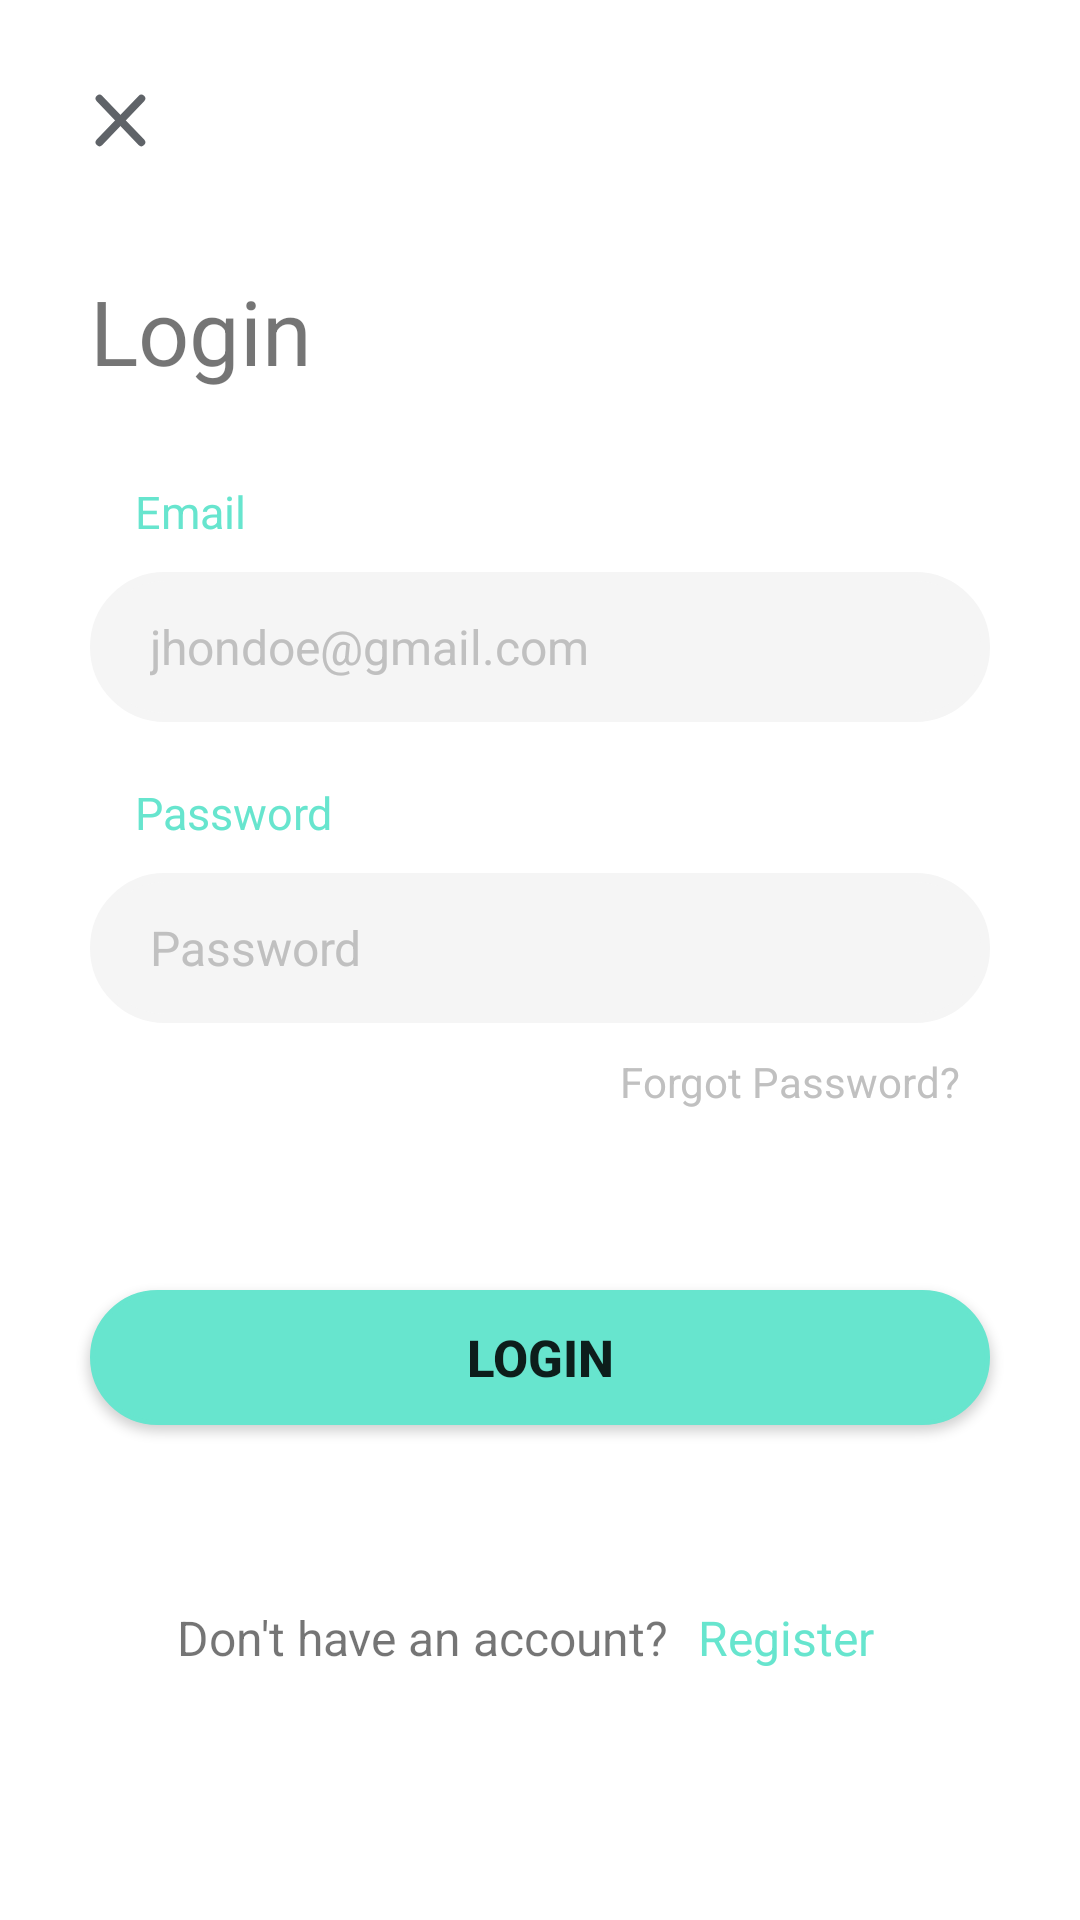

Icon bounding boxes for this 1080 × 1920 phone screenshot, format (x1, y1, x2, y2):
cancel: (95, 94, 146, 147)
